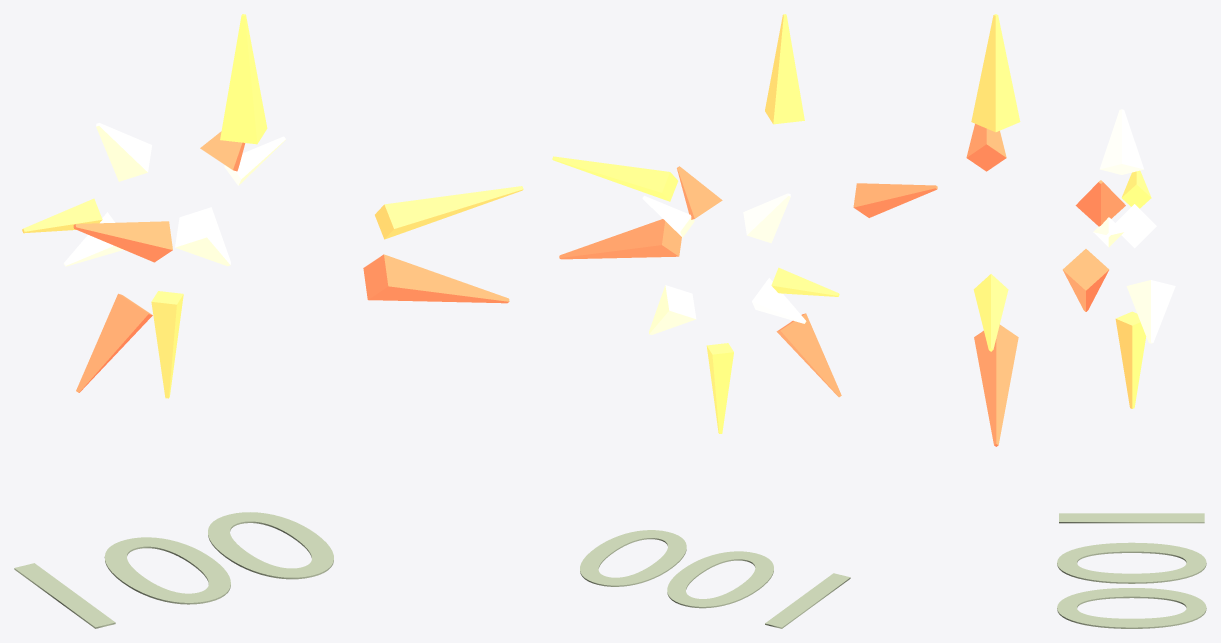
The model's file is hundo.glb.
3 views of the same model, side by side, from view 1: azimuth 30°, elevation 25°; view 2: azimuth 150°, elevation 25°; view 3: azimuth 270°, elevation 25° (orthographic). The views are drawn at different scales.
Visible parts, largest first — view 1: 100 Pop dimensional effect.001, 100 Pop; view 2: 100 Pop dimensional effect.001, 100 Pop; view 3: 100 Pop dimensional effect.001, 100 Pop.
Boxes of the visible parts, bbox=[...] form: 100 Pop dimensional effect.001: bbox=[22, 14, 523, 398]; 100 Pop: bbox=[14, 512, 333, 628]; 100 Pop dimensional effect.001: bbox=[552, 14, 937, 433]; 100 Pop: bbox=[580, 530, 850, 628]; 100 Pop dimensional effect.001: bbox=[966, 14, 1175, 446]; 100 Pop: bbox=[1057, 513, 1206, 628].
Bounding box in the file's own units: 1.2 × 1.56 × 0.6186.
